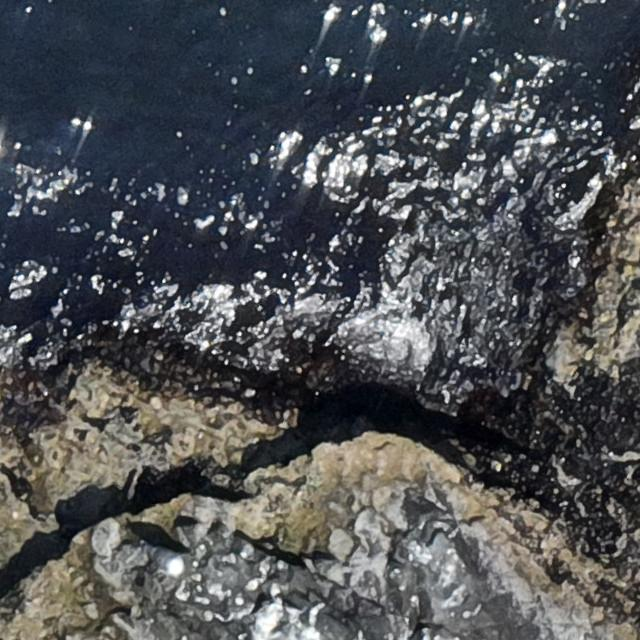umineko: (146, 544, 187, 578)
